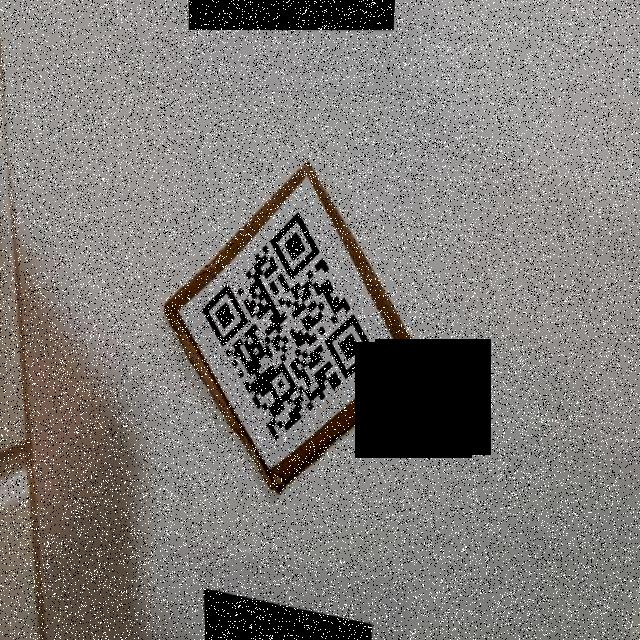QR_CODE: (190, 205, 385, 450)
